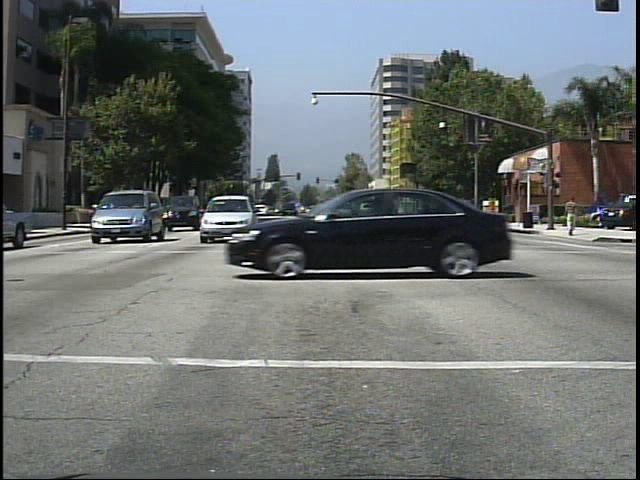person: (562, 192, 587, 243)
